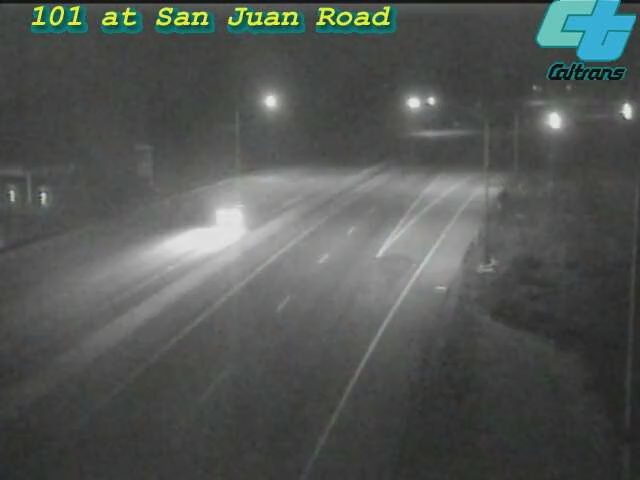vehicle: (186, 180, 266, 260), (527, 97, 577, 147), (602, 86, 640, 136)
